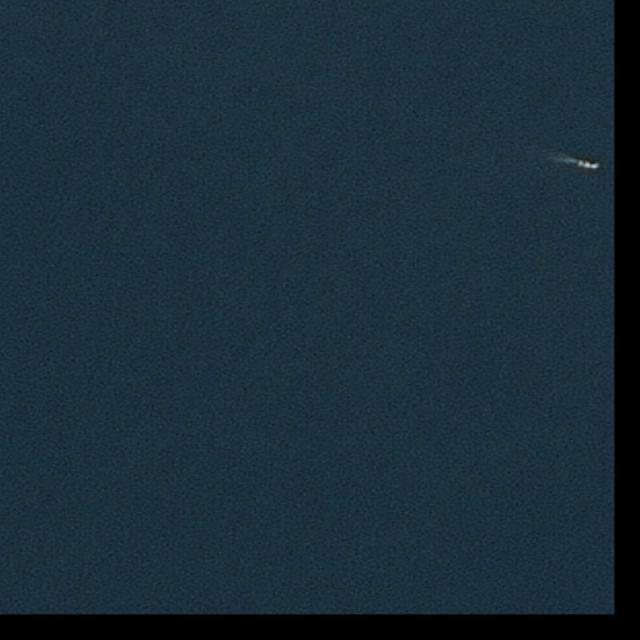ship: (586, 161, 600, 169)
